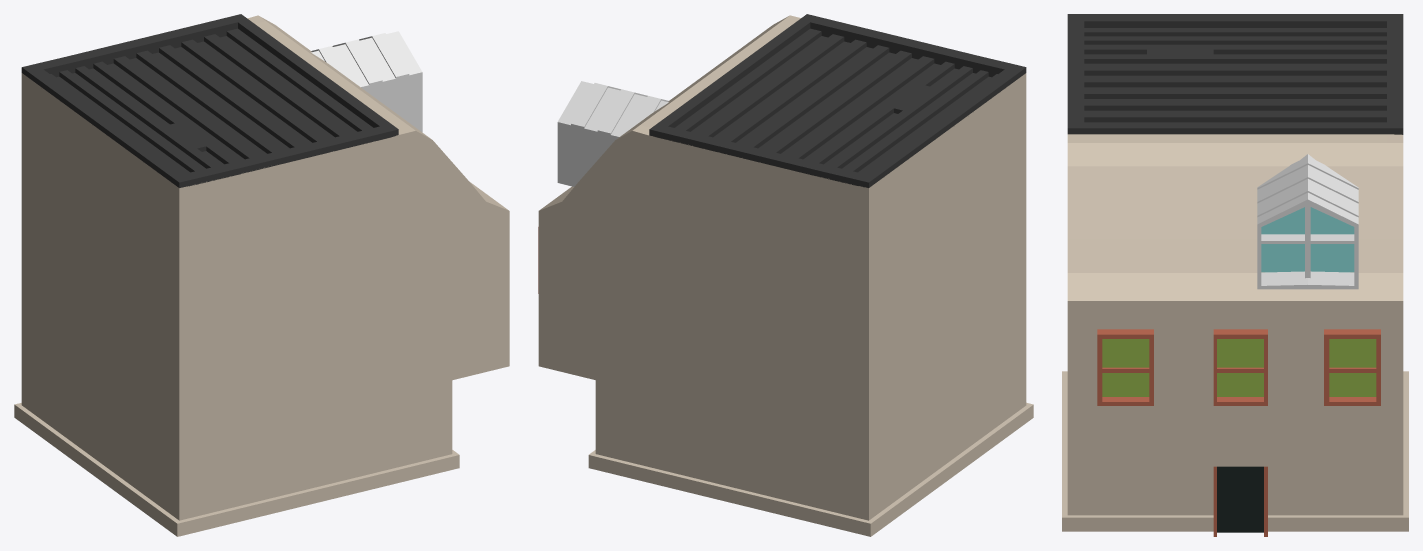
The model's file is House 2.fbx.
3 views of the same model, side by side, from view 1: azimuth 30°, elevation 25°; view 2: azimuth 150°, elevation 25°; view 3: azimuth 270°, elevation 25° (orthographic). The views are drawn at different scales.
Parts seen in each view (by area): view 1: Cube.268, Cube.019; view 2: Cube.268, Cube.019; view 3: Cube.268, Cube.270, Cube.019.
Part boxes in pixels (x1,y1,x2,y2): Cube.268: (14, 14, 509, 536); Cube.019: (311, 31, 422, 132); Cube.268: (538, 14, 1033, 536); Cube.019: (557, 81, 668, 186); Cube.268: (1062, 14, 1408, 531); Cube.270: (1097, 329, 1380, 536); Cube.019: (1257, 154, 1358, 289).
Bounding box in the file's own units: 201 × 195 × 164.
